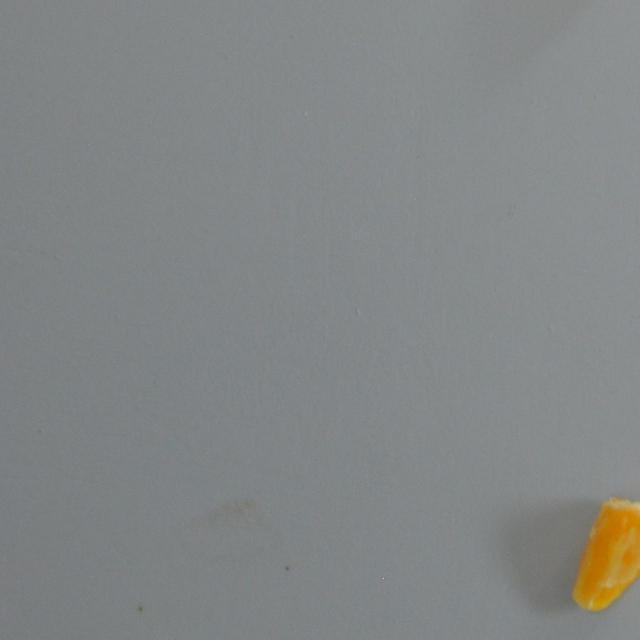pelicula: (560, 495, 640, 611)
